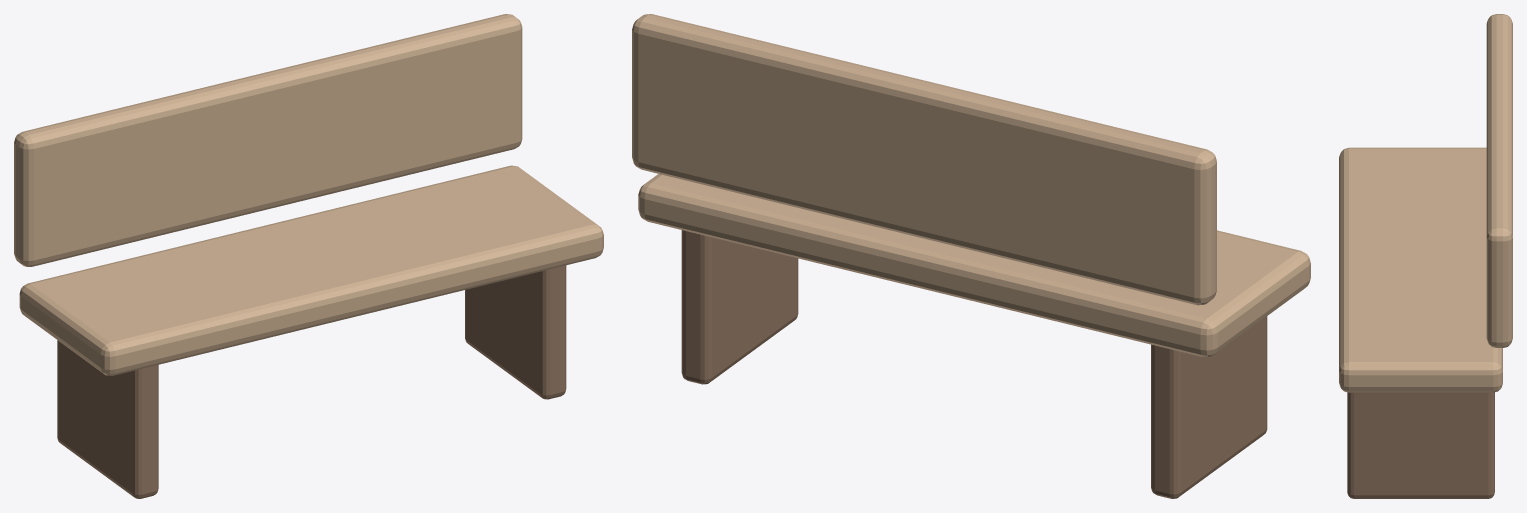
File: bench.glb
The picture shows the model from 3 angles, left to right: view 1: azimuth 30°, elevation 25°; view 2: azimuth 150°, elevation 25°; view 3: azimuth 270°, elevation 25°; orthographic projection. The views are drawn at different scales.
Parts seen in each view (by area): view 1: bench; view 2: bench; view 3: bench.
Boxes of the visible parts, x1,y1,x2,y2 form: bench: (14,14,603,498); bench: (632,14,1310,498); bench: (1339,14,1512,498).
Size of the model in its own units: 1.6 by 0.955 by 0.53.
